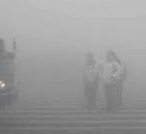person: (101, 49, 126, 111), (80, 50, 103, 111)
